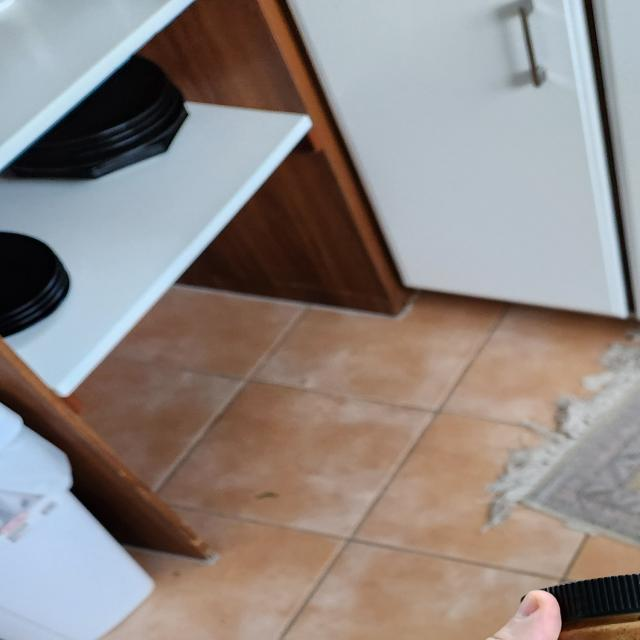almond butter: (522, 568, 640, 640)
